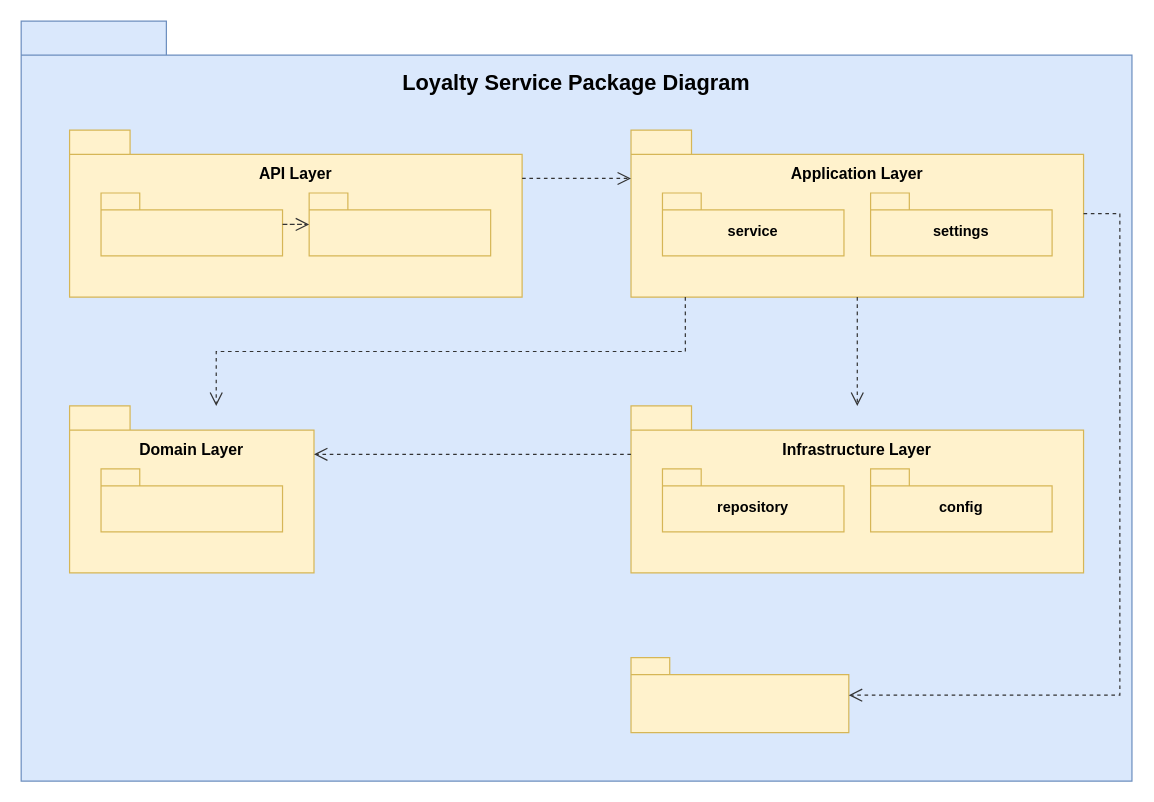
Image size: 1154x802. Some labels were removed from this diagram. Here are the shapes that lost their labels. From the top down, the centre of each, then its label:
At (191,224): "controller".
At (399,224): "dto".
At (191,500): "model".
At (739,694): "common-lib".
